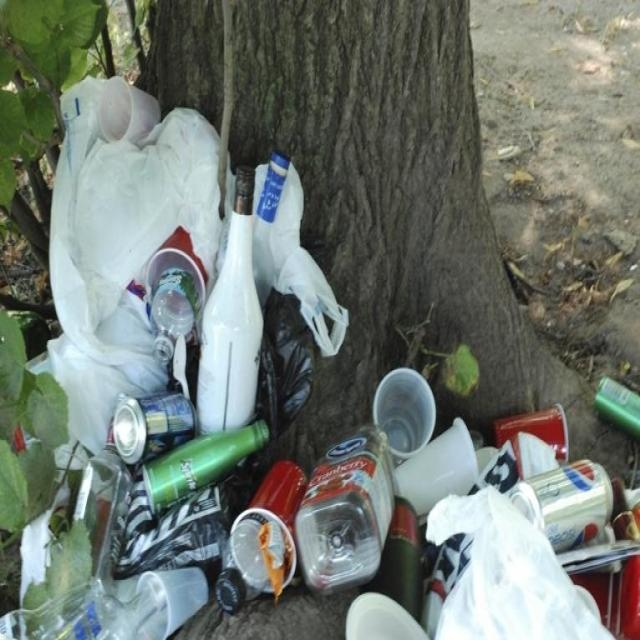Plastics: (237, 375, 489, 640), (180, 149, 306, 355)
can: (113, 390, 275, 504), (518, 451, 631, 534)
